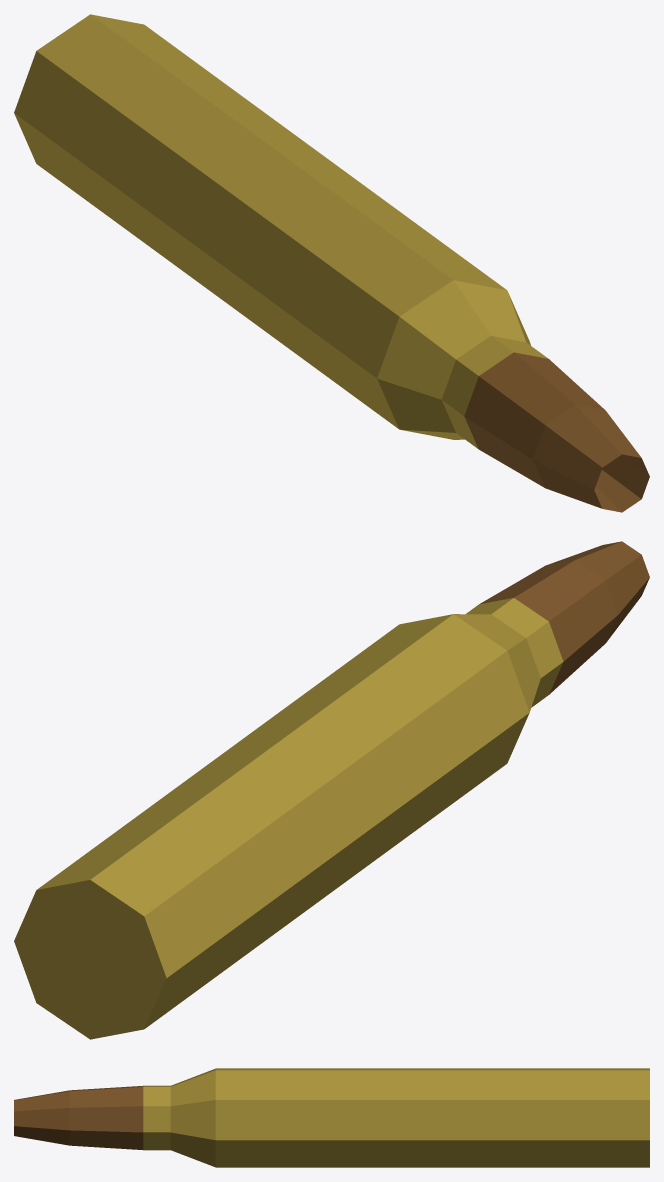
Rendered from HollowPointLarge.glb.
3 renders of one model, top to bottom at view 1: azimuth 30°, elevation 25°; view 2: azimuth 150°, elevation 25°; view 3: azimuth 270°, elevation 25°, orthographic. The views are drawn at different scales.
Parts seen in each view (by area): view 1: HollowPointLarge; view 2: HollowPointLarge; view 3: HollowPointLarge.
Part boxes in pixels (x1,y1,x2,y2): HollowPointLarge: (14, 14, 649, 512); HollowPointLarge: (14, 541, 649, 1039); HollowPointLarge: (14, 1068, 649, 1167).
Bounding box in the file's own units: 0.0117 × 0.0117 × 0.0703.
1 material, 1 textured.
